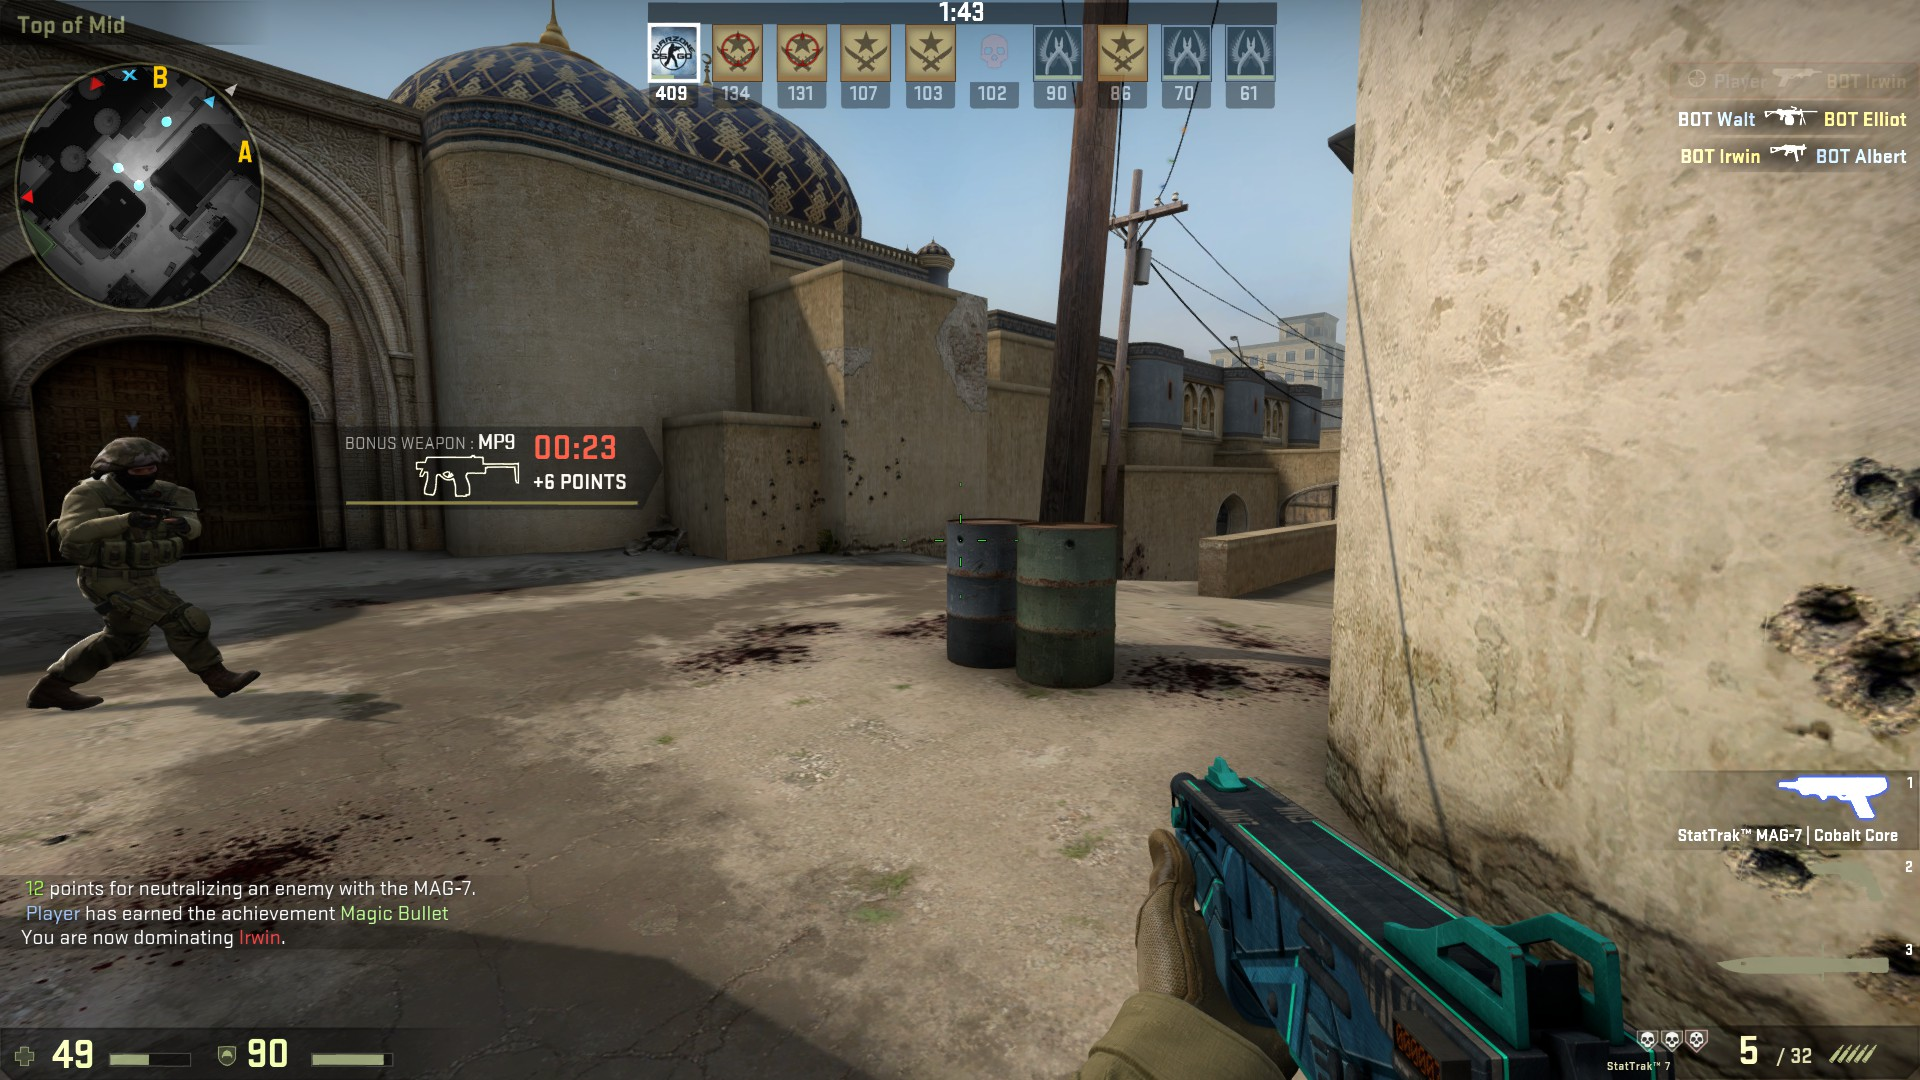c: (47, 434, 206, 711)
ch: (94, 431, 167, 504)
